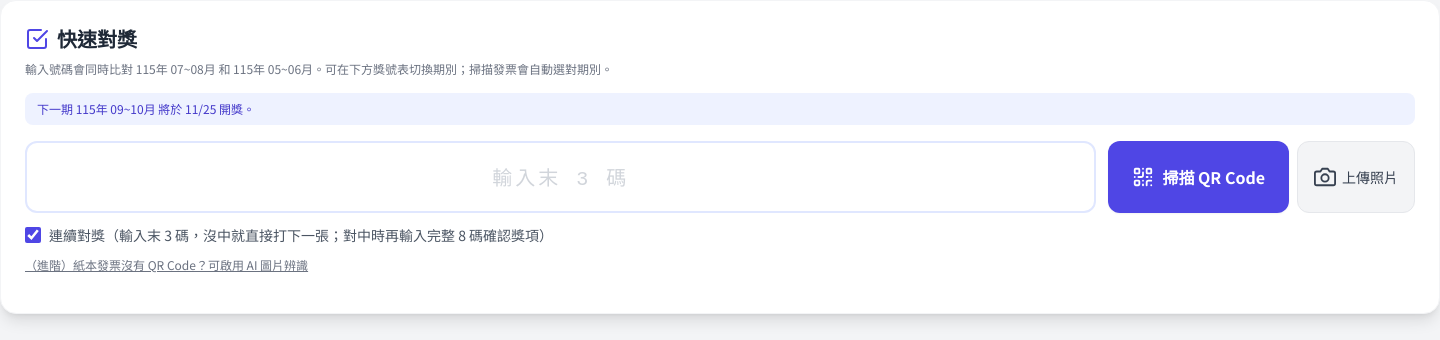
Test: 快速對獎畫面 › 說明目前比對的兩期；輸入框提示末 3 碼，一般模式提示末 3 碼或完整 8 碼
Check: the text "輸入號碼會同時比對 115年 07~08月 和 115年 05~06月。可在下方獎號表切換期別；掃描發票會自動選對期別。" is shown, box [25, 60, 613, 77]
Check: the field with placeholder "輸入末 3 碼" is shown, box [25, 141, 1096, 213]
Step 1. Click the checkbox labelled "連續對獎（輸入末 3 碼，沒中就直接打下一張；對中時再輸入完整 8 碼確認獎項）" → (33, 235), box [25, 227, 41, 243]
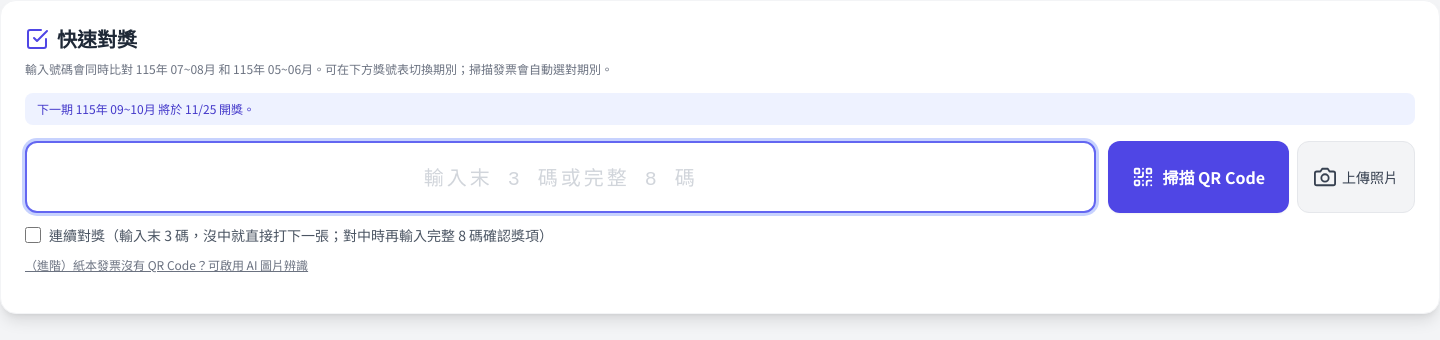
Check: the field with placeholder "輸入末 3 碼或完整 8 碼" is shown, box [25, 141, 1096, 213]
